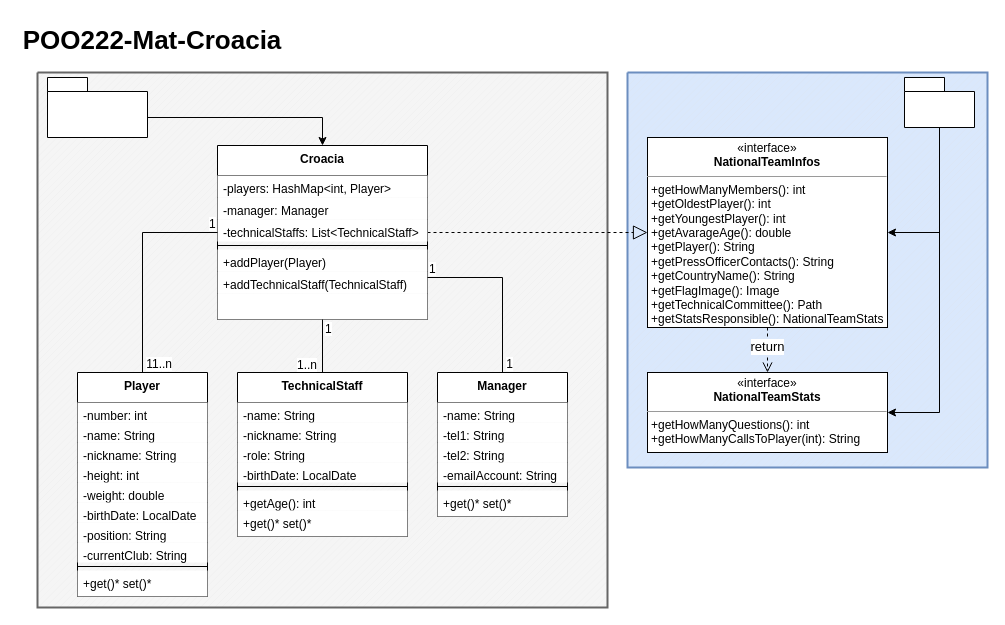
Some shapes in this 1005 by 625 pixel diagram are drawn without their labels. The shapes that lost their labels are listed below. From the top down, each one's centre as x and y in pixels, then its label:
At [97,107]: "module_croacia".
At [939,102]: "fifa".
At [322,306]: "+setManager(Manager)".
